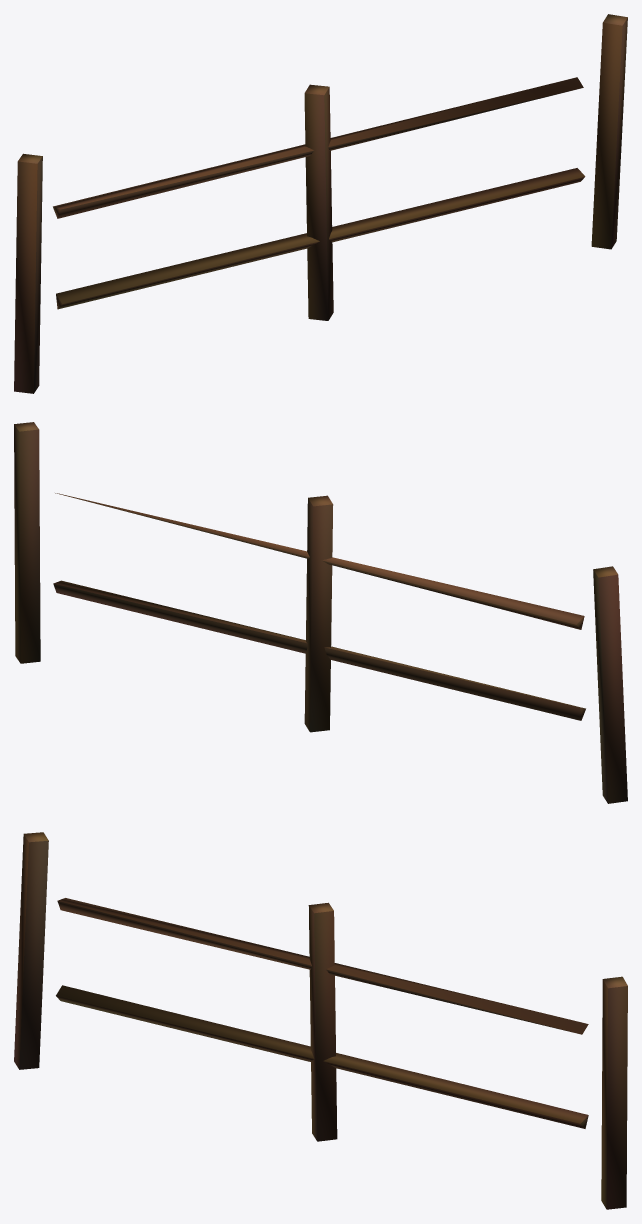
File: prop_bk_foret_broceliande_0000.glb
3 renders of one model, top to bottom at view 1: azimuth 30°, elevation 25°; view 2: azimuth 150°, elevation 25°; view 3: azimuth 330°, elevation 25°, orthographic.
Parts seen in each view (by area): view 1: prop_bk_000; view 2: prop_bk_000; view 3: prop_bk_000.
Boxes of the visible parts, <box> form: prop_bk_000: <box>14,14,627,393</box>; prop_bk_000: <box>14,422,627,803</box>; prop_bk_000: <box>14,832,627,1209</box>.
Bounding box in the file's own units: 1.46 × 0.5165 × 0.0804.
